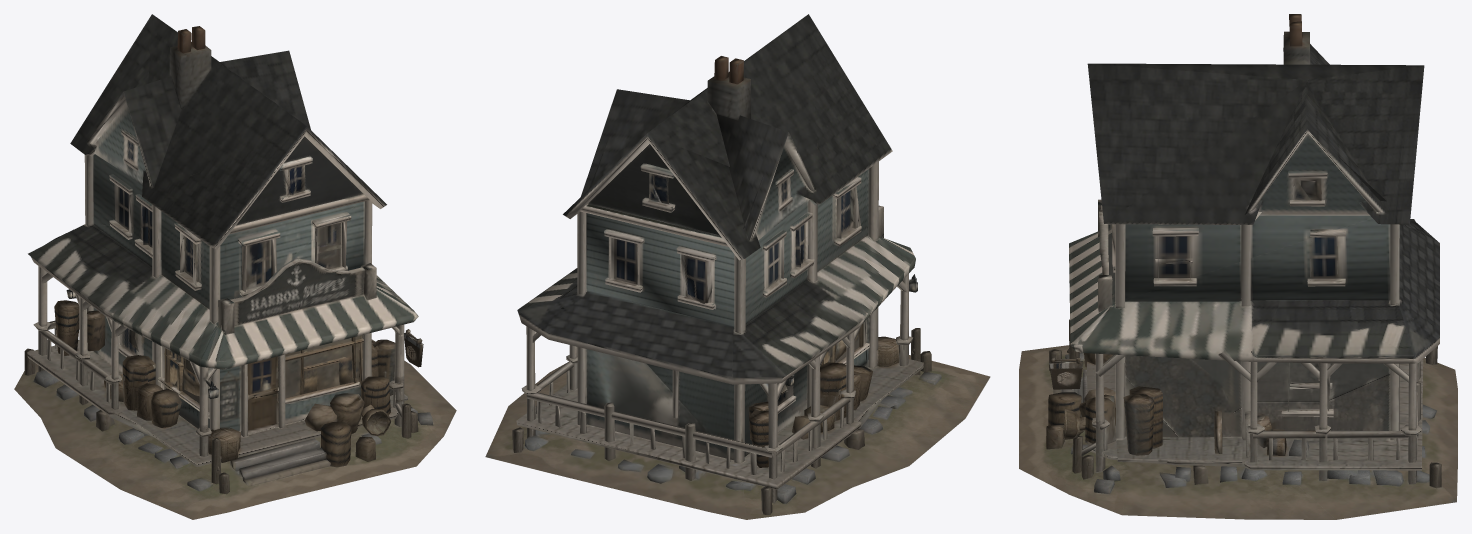
Rendered from Meshy_AI_storefront_2_textured_0921204722_texture.glb.
3 views of the same model, side by side, from view 1: azimuth 30°, elevation 25°; view 2: azimuth 150°, elevation 25°; view 3: azimuth 270°, elevation 25° (orthographic). The views are drawn at different scales.
Bounding box in the file's own units: 2 × 2 × 2.
Materials: 1 (1 with a texture image).
